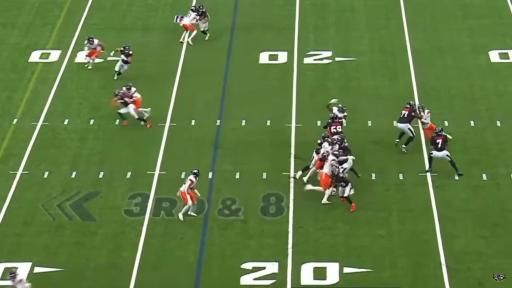Helmet: (329, 113, 339, 122), (407, 101, 417, 109), (338, 104, 346, 113), (191, 169, 200, 177), (125, 83, 133, 92), (435, 127, 443, 135), (337, 135, 344, 144), (122, 46, 131, 53), (322, 134, 329, 142), (191, 6, 199, 13), (114, 90, 122, 97), (10, 269, 16, 278), (87, 37, 94, 44), (328, 139, 336, 145), (333, 151, 340, 157), (419, 105, 425, 111), (198, 6, 204, 11)
Jersey: (180, 175, 197, 193), (398, 107, 415, 124), (431, 135, 448, 151), (322, 155, 336, 174), (327, 120, 342, 136), (184, 7, 198, 23), (338, 147, 350, 165), (12, 276, 31, 287), (116, 93, 132, 106), (122, 87, 140, 98), (120, 50, 133, 65), (335, 175, 350, 188), (197, 9, 210, 23), (332, 106, 347, 118), (421, 110, 431, 128), (85, 39, 101, 50), (321, 143, 331, 152)
Player: (305, 151, 339, 203), (427, 128, 462, 175), (303, 138, 337, 183), (111, 91, 151, 127), (296, 133, 328, 178), (396, 102, 421, 153), (178, 170, 200, 221), (122, 84, 150, 118), (175, 7, 197, 45), (334, 172, 355, 211), (111, 45, 133, 79), (338, 144, 360, 177), (84, 36, 104, 69), (419, 105, 436, 140), (419, 105, 435, 140), (327, 99, 347, 124), (323, 114, 343, 137), (197, 5, 209, 39), (9, 270, 31, 287)
